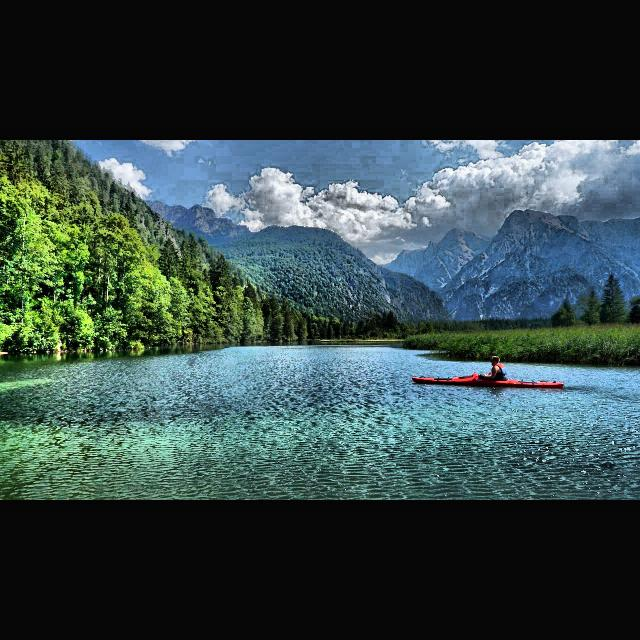kayak: (411, 374, 565, 388)
